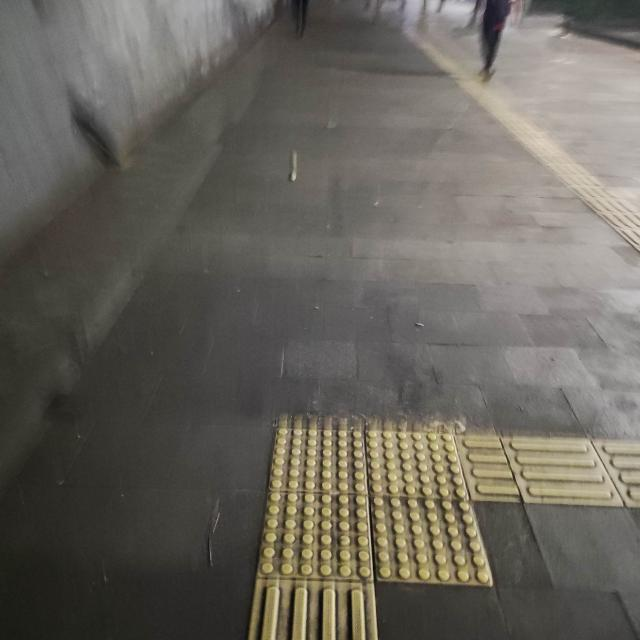kanan: (265, 386, 640, 631)
